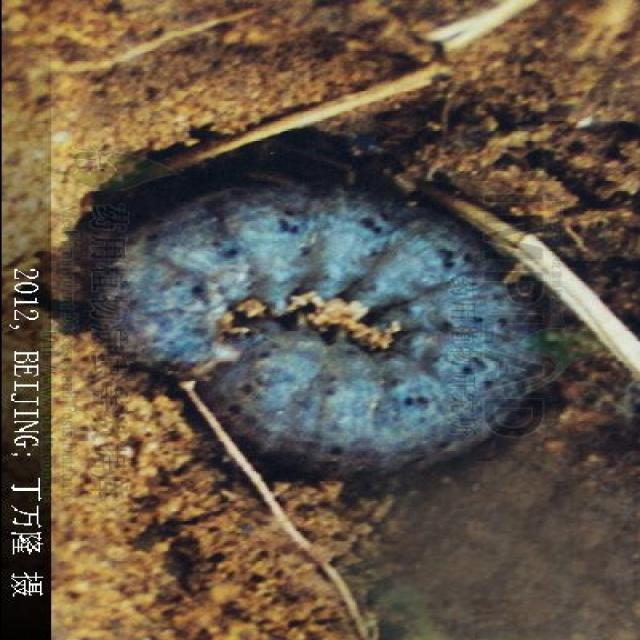black cutworm: (85, 173, 563, 483)
